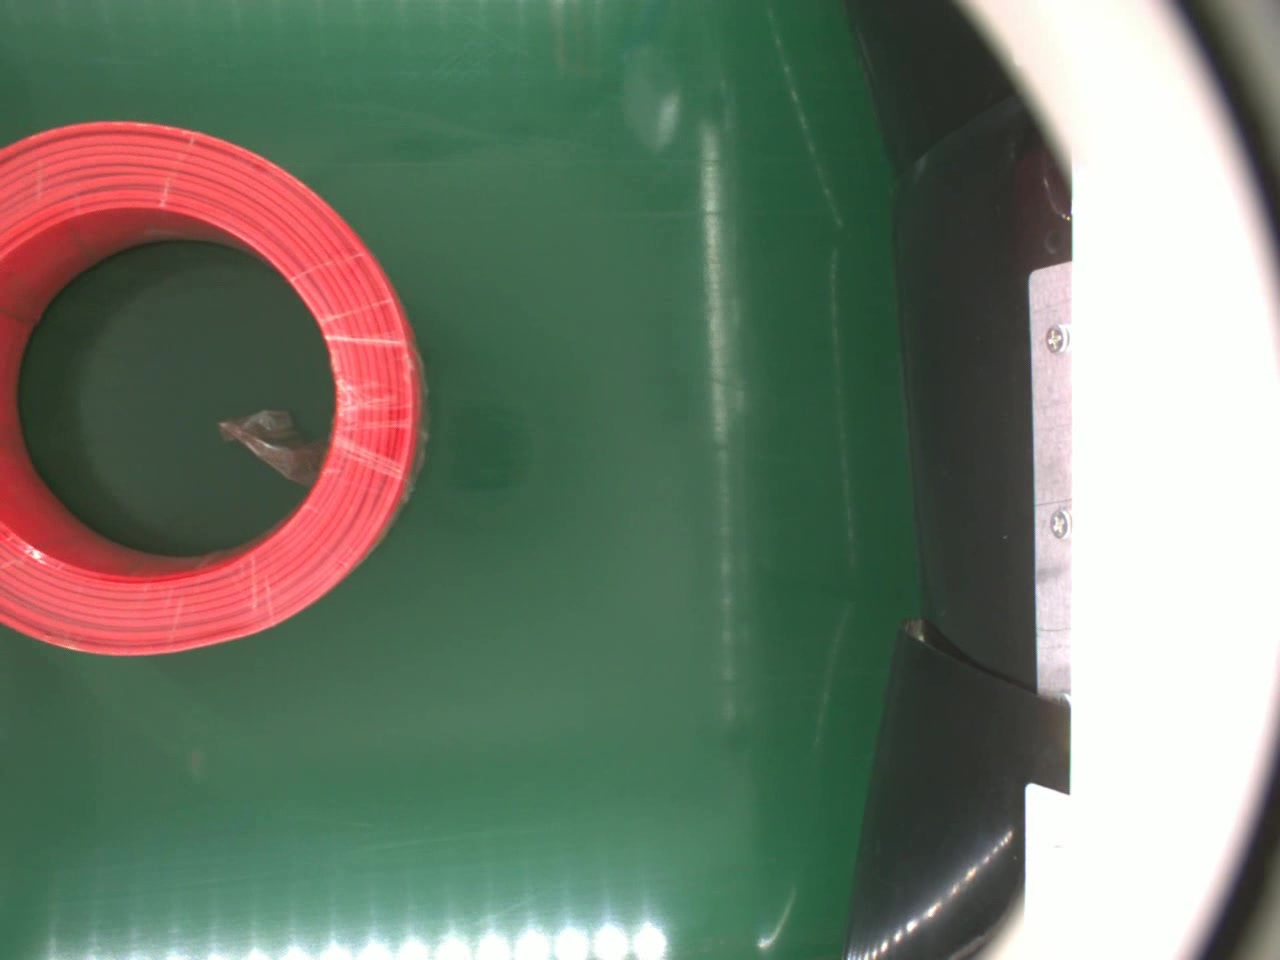red: (0, 117, 422, 657)
